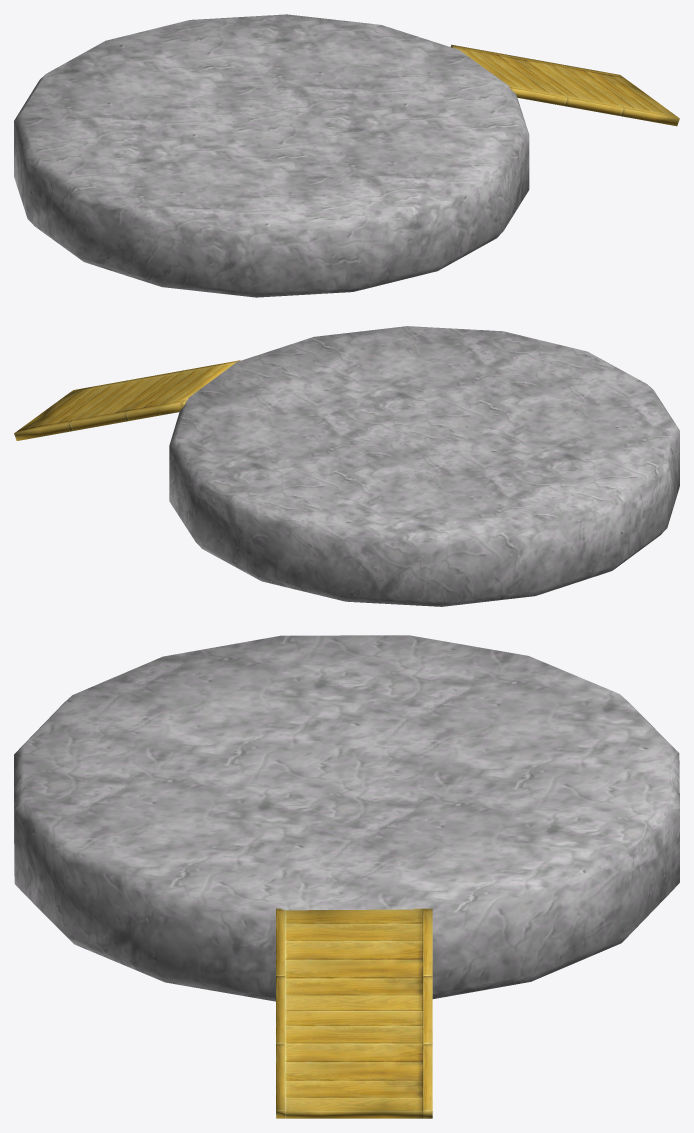
Rendered from INST_HTOWN_MILLSTONE.fbx.
3 views of the same model, one above another, from view 1: azimuth 30°, elevation 25°; view 2: azimuth 150°, elevation 25°; view 3: azimuth 270°, elevation 25° (orthographic). The views are drawn at different scales.
Visible parts, largest first — view 1: INST_HTOWN_MILLSTONE; view 2: INST_HTOWN_MILLSTONE; view 3: INST_HTOWN_MILLSTONE.
Part boxes in pixels (x1,y1,x2,y2): INST_HTOWN_MILLSTONE: (14,14,679,297); INST_HTOWN_MILLSTONE: (14,326,679,606); INST_HTOWN_MILLSTONE: (14,635,679,1118).
Size of the model in its own units: 87898 by 11033 by 64195.
2 materials, 2 textured.
